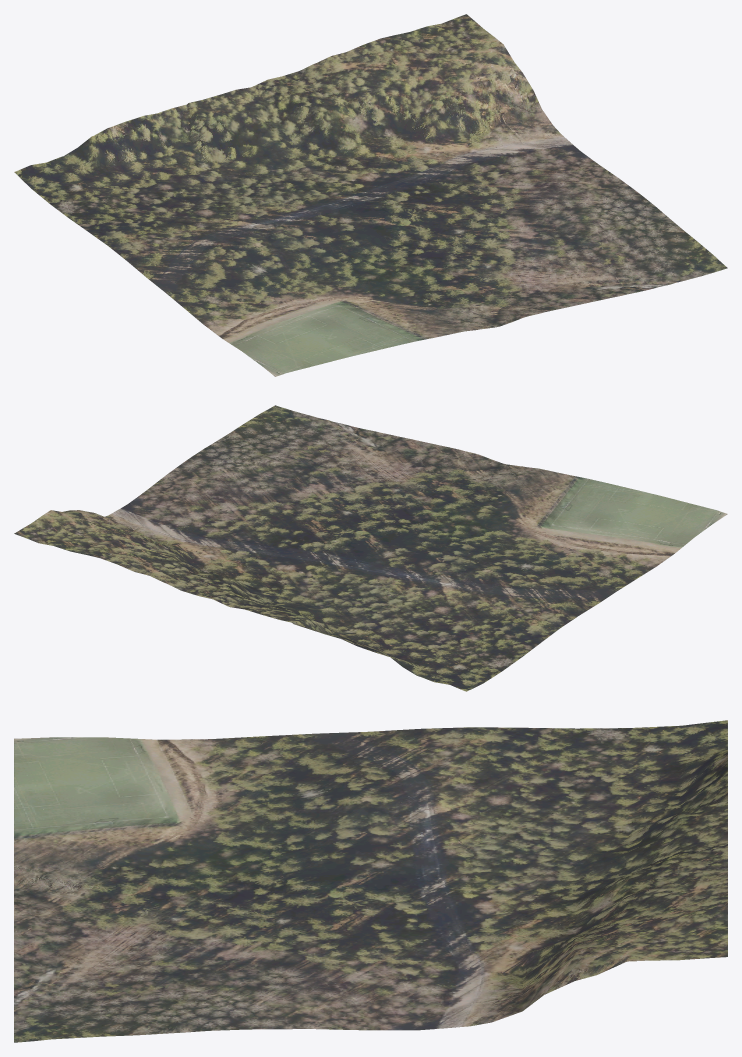
File: CM_Terrain_24490049_6822251.fbx
3 renders of one model, top to bottom at view 1: azimuth 30°, elevation 25°; view 2: azimuth 150°, elevation 25°; view 3: azimuth 270°, elevation 25°, orthographic. The views are drawn at different scales.
Parts seen in each view (by area): view 1: CM_Terrain_24490049_6822251_LOD0; view 2: CM_Terrain_24490049_6822251_LOD0; view 3: CM_Terrain_24490049_6822251_LOD0.
Part boxes in pixels (x1=…): CM_Terrain_24490049_6822251_LOD0: x1=14, y1=14, x2=727, y2=376; CM_Terrain_24490049_6822251_LOD0: x1=14, y1=405, x2=727, y2=691; CM_Terrain_24490049_6822251_LOD0: x1=14, y1=720, x2=727, y2=1042.
Size of what is drawn, in the model's own units: 205 by 28.38 by 205.
